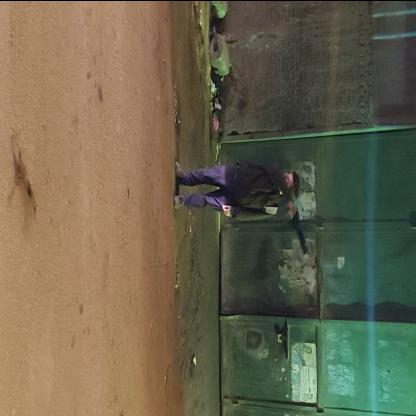long weapon: (284, 192, 314, 254)
